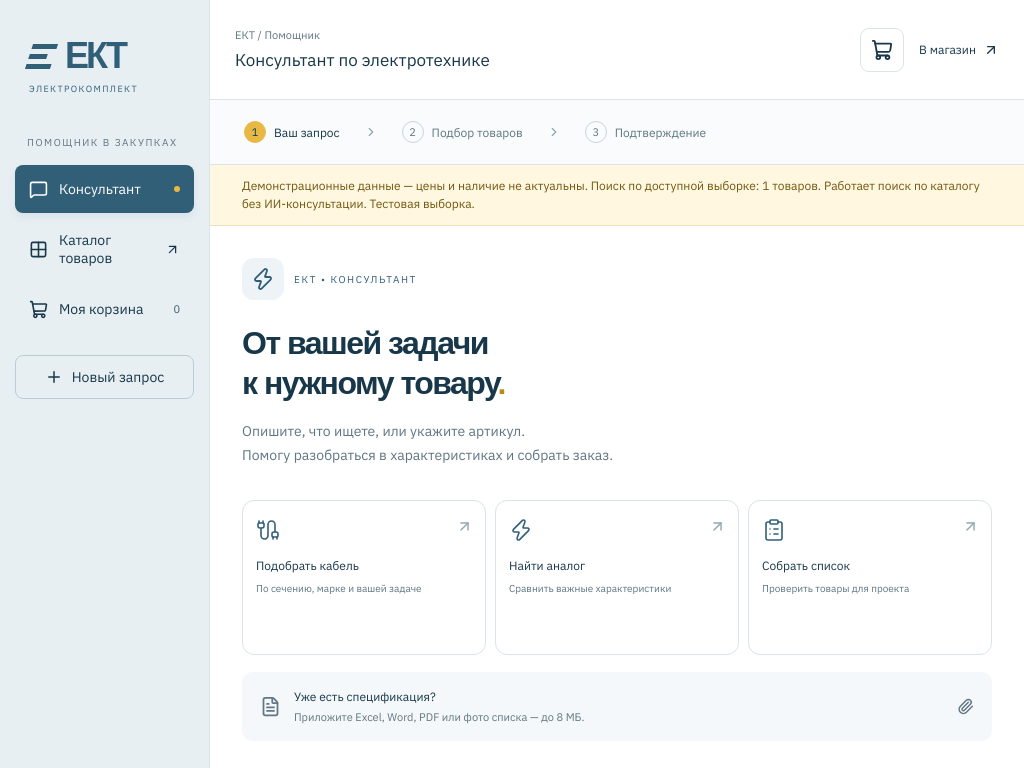
it: recoverable response errors › shows a cart failure and recovery inside the open mobile dialog (503)
Click the button named "Открыть корзину, товаров: 0".
click(882, 50)  # box left=860, top=28, right=904, bottom=72
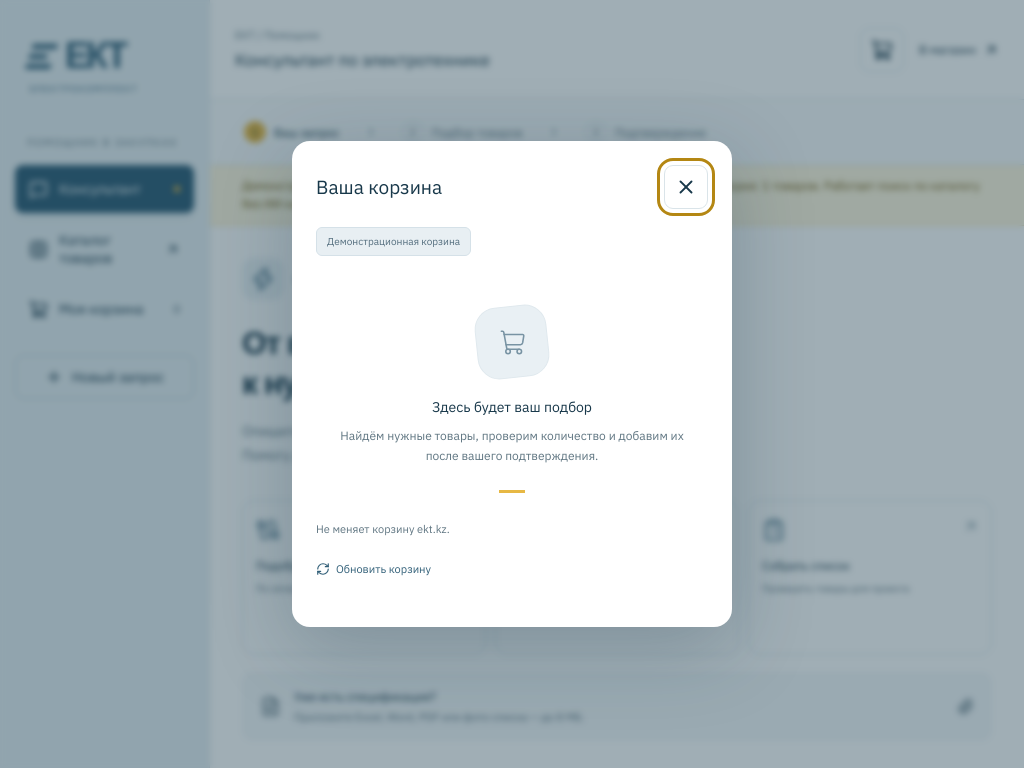
Click the button "Обновить корзину".
click(374, 569)  # box left=316, top=547, right=431, bottom=591
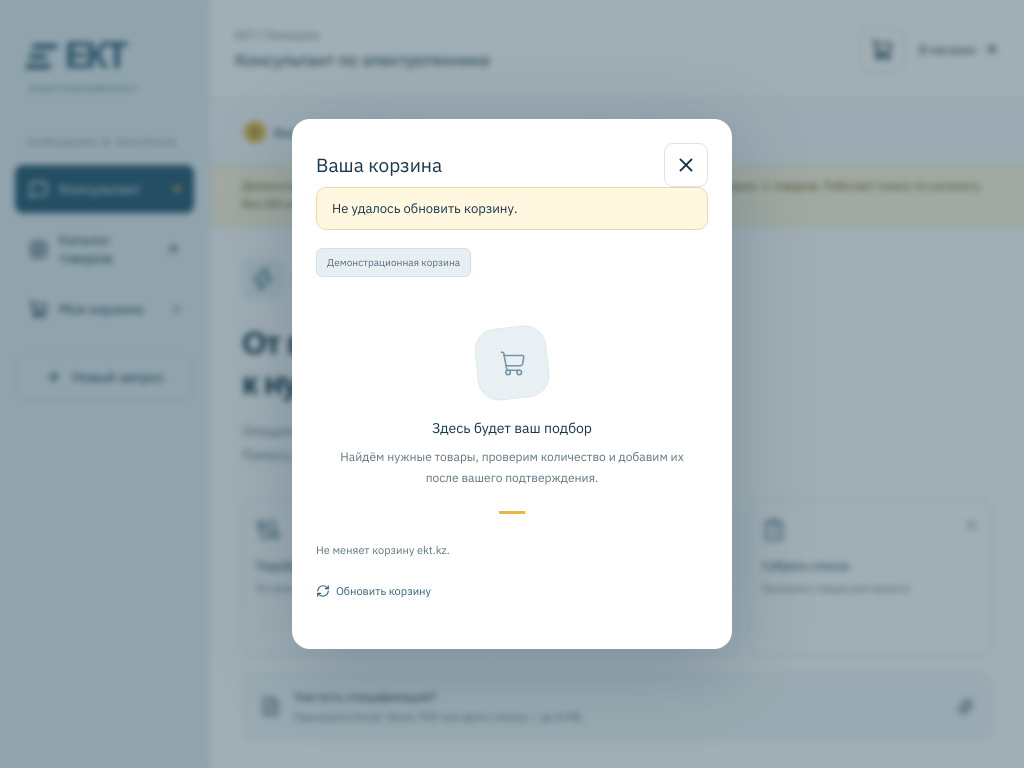
Result: the message reads "Не удалось обновить корзину." at left=332, top=200, right=518, bottom=217
Click the button "Обновить корзину".
click(374, 591)  # box left=316, top=569, right=431, bottom=613
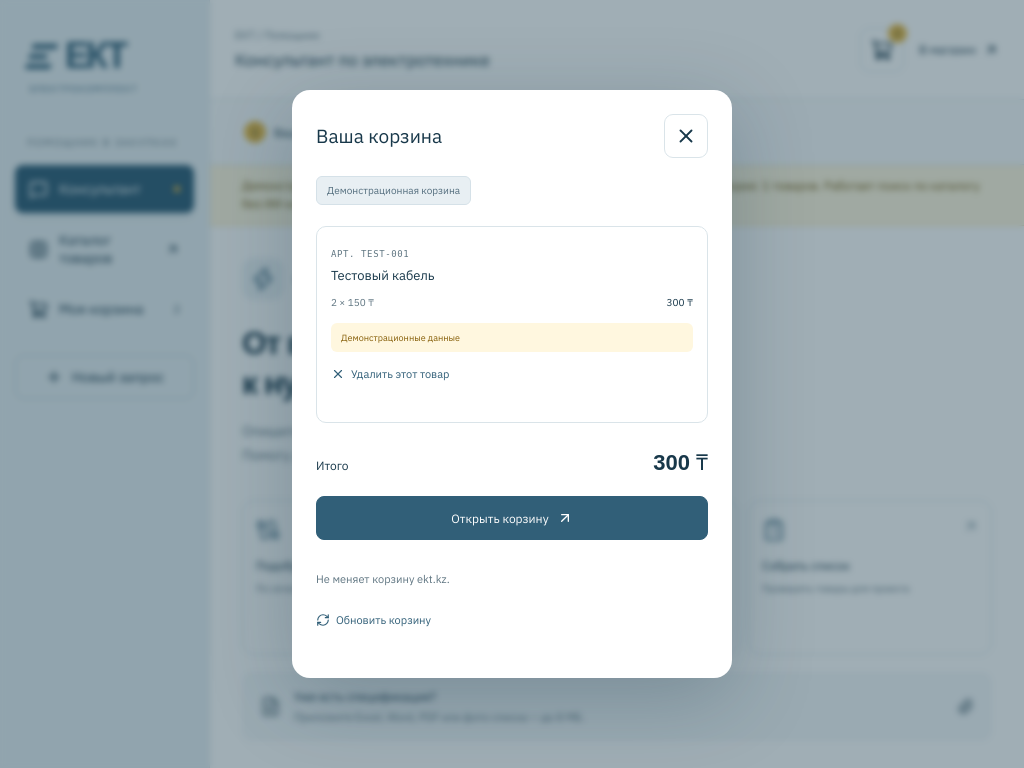
Result: the heading "Тестовый кабель" is shown at left=331, top=267, right=434, bottom=284
Result: the message "Не удалось обновить корзину." is gone
